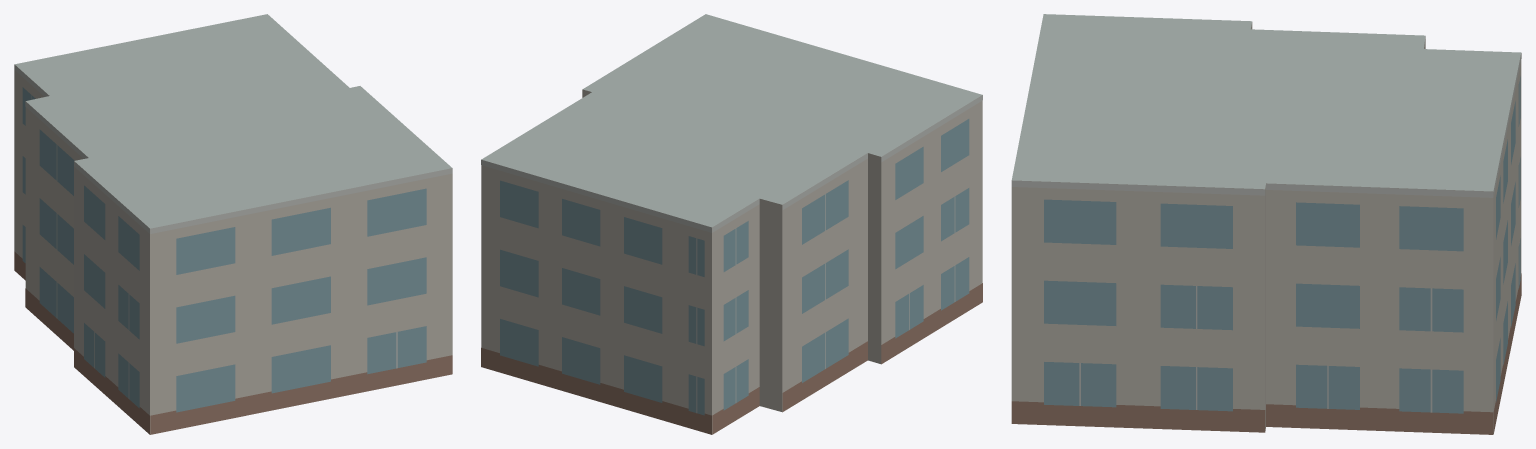
Rendered from survey-upis-32869558.glb.
The picture shows the model from 3 angles, left to right: view 1: azimuth 30°, elevation 25°; view 2: azimuth 150°, elevation 25°; view 3: azimuth 270°, elevation 25°; orthographic projection. The views are drawn at different scales.
Visible parts, largest first — view 1: survey-upis-32869558.tmp; view 2: survey-upis-32869558.tmp; view 3: survey-upis-32869558.tmp.
Part boxes in pixels (x1,y1,x2,y2): survey-upis-32869558.tmp: (14,14,452,434); survey-upis-32869558.tmp: (481,14,982,434); survey-upis-32869558.tmp: (1011,14,1521,434).
Size of the model in its own units: 14.32 by 9.15 by 17.38.
